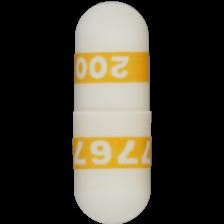0025-1525: (0, 0, 224, 224)
